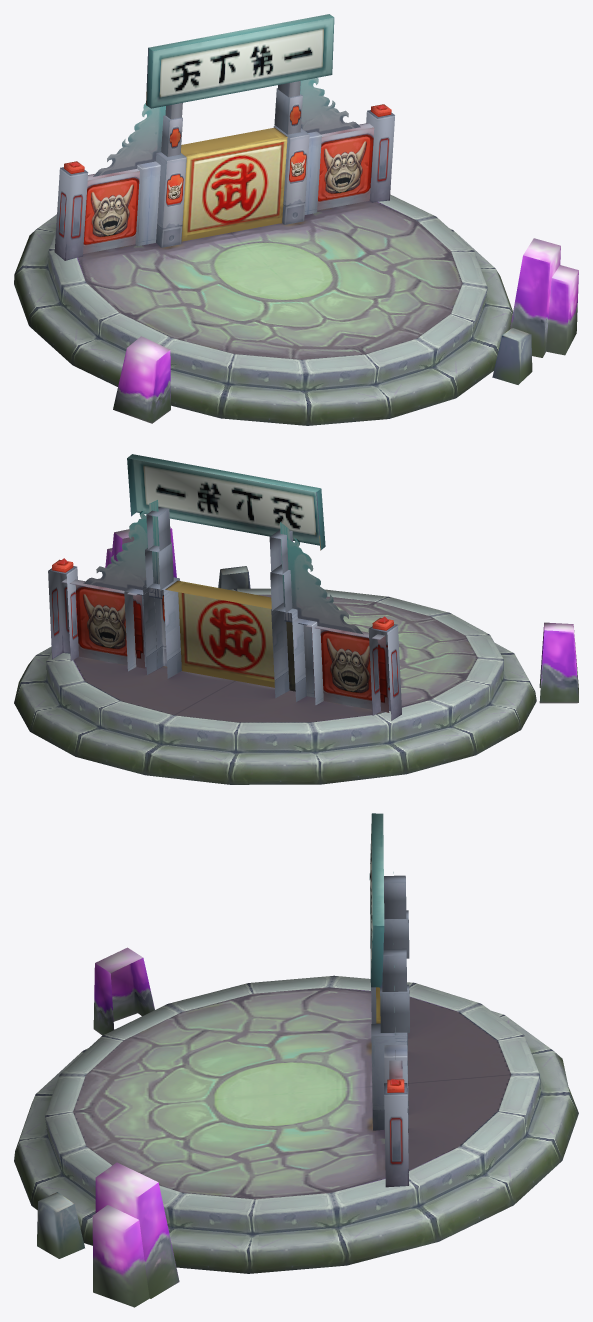
Rendered from biwuxhang.FBX.
3 renders of one model, top to bottom at view 1: azimuth 30°, elevation 25°; view 2: azimuth 150°, elevation 25°; view 3: azimuth 270°, elevation 25°, orthographic. The views are drawn at different scales.
Visible parts, largest first — view 1: Object164; view 2: Object164; view 3: Object164.
Part boxes in pixels (x1,y1,x2,y2): Object164: [14, 14, 578, 425]; Object164: [14, 454, 578, 784]; Object164: [14, 813, 578, 1307].
Bounding box in the file's own units: 570 × 334 × 534.
